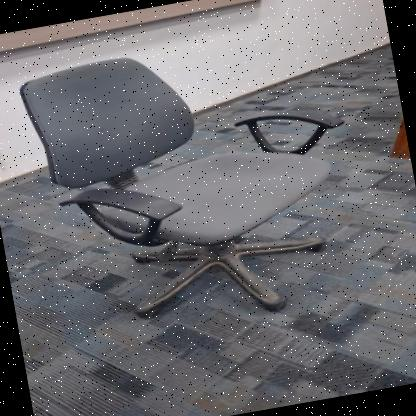chair: (8, 12, 378, 354)
